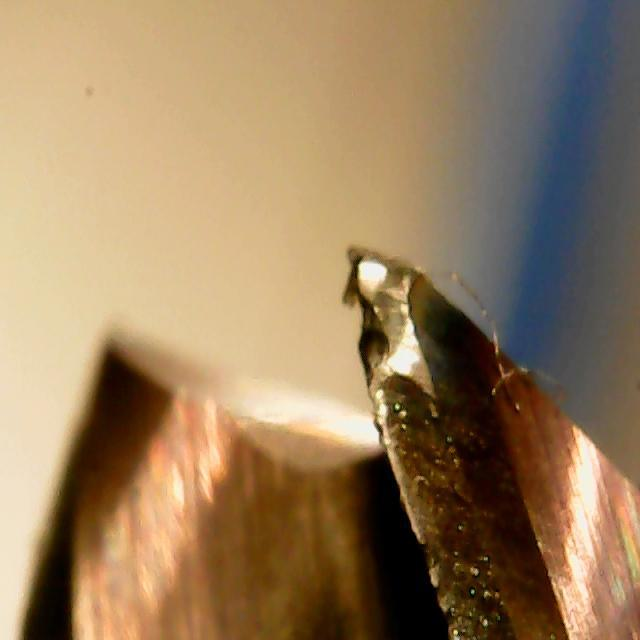Tool-wear-class-2: (337, 245, 539, 598)
